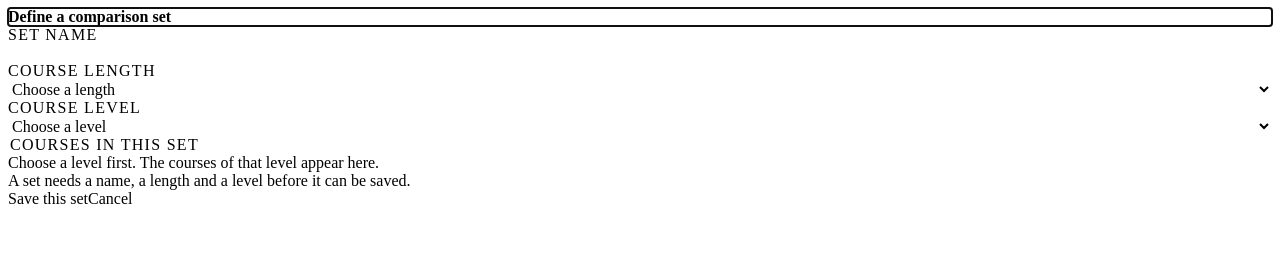
Test: changing the level in front of chosen courses › removes the courses that no longer match, and names them
This screenshot has width=1280, height=279.
Step 1. Select "UG" in the dropdown labelled "Course level" → (640, 126), box [8, 117, 1272, 136]
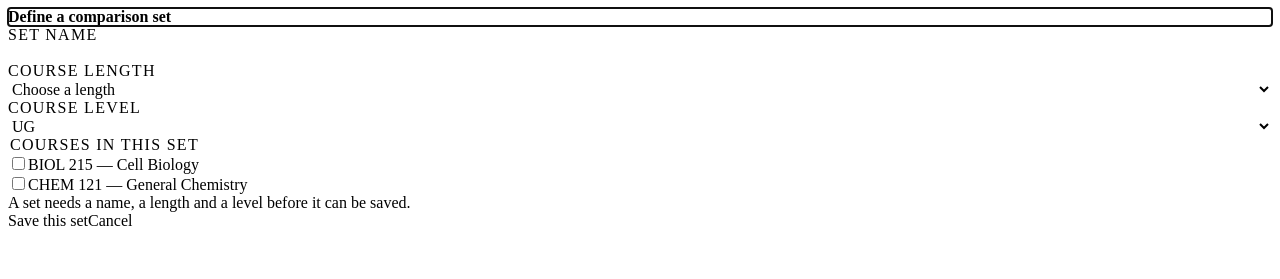
Step 2. Click the checkbox labelled "BIOL 215 — Cell Biology" → (18, 164), box [12, 157, 25, 170]
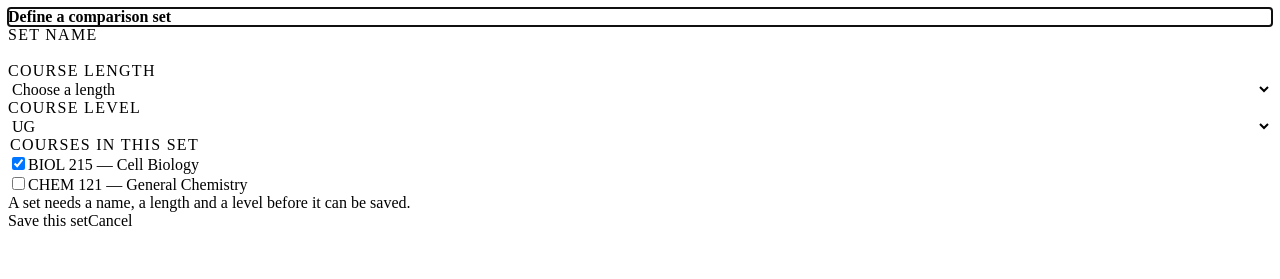
Step 3. Click the checkbox labelled "CHEM 121 — General Chemistry" → (18, 184), box [12, 177, 25, 190]
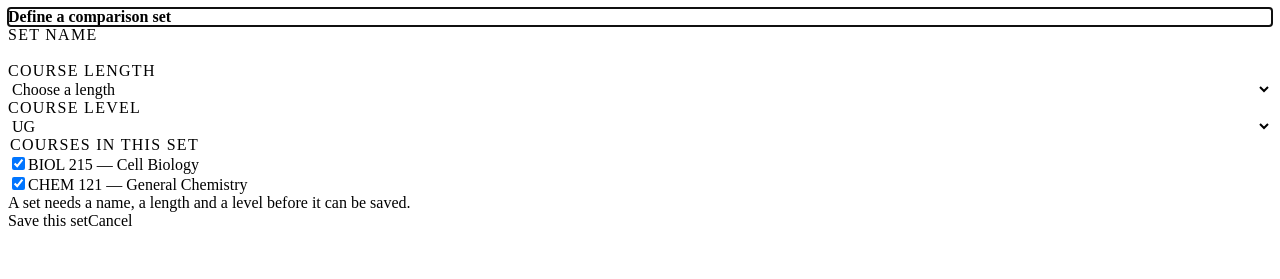
Step 4. Select "GR" in the dropdown labelled "Course level" → (640, 126), box [8, 117, 1272, 136]
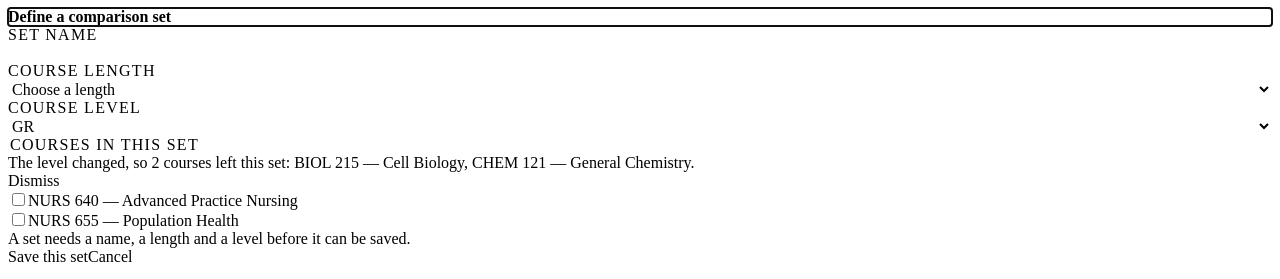
Check: the checkbox labelled "NURS 640 — Advanced Practice Nursing" is not checked, box [12, 193, 25, 206]
